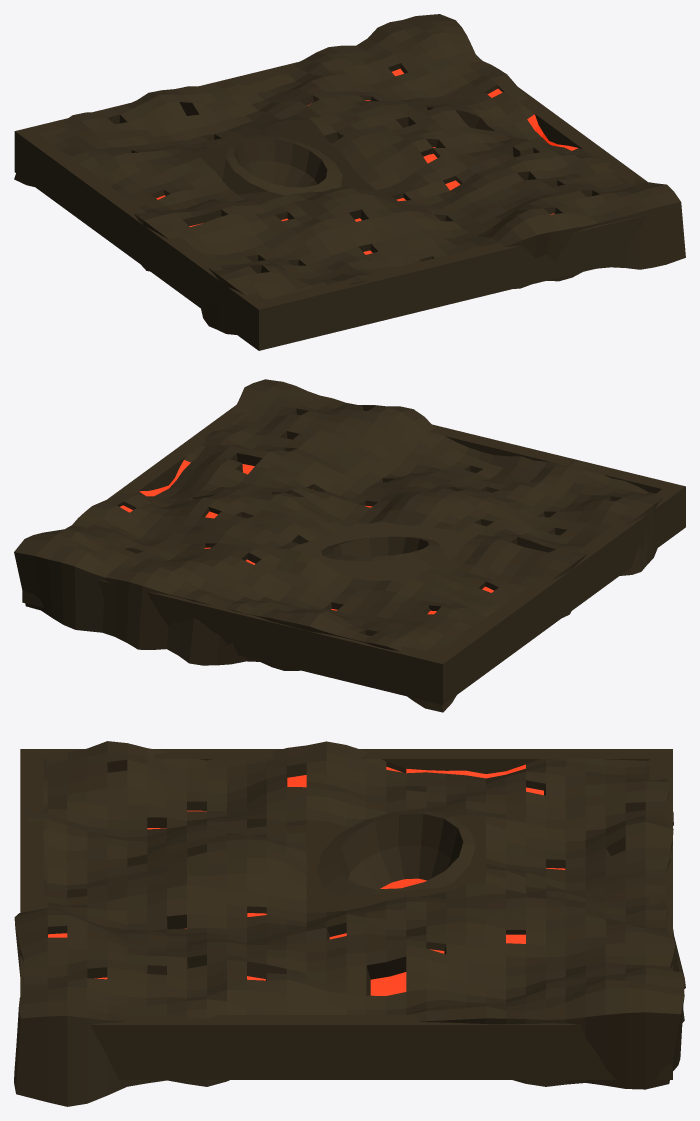
File: Normal Tile.fbx
The picture shows the model from 3 angles, top to bottom: view 1: azimuth 30°, elevation 25°; view 2: azimuth 150°, elevation 25°; view 3: azimuth 270°, elevation 25°; orthographic projection. The views are drawn at different scales.
Parts seen in each view (by area): view 1: Normal Tile; view 2: Normal Tile; view 3: Normal Tile.
Part boxes in pixels (<box>): Normal Tile: <box>14,14,685,350</box>; Normal Tile: <box>14,379,685,712</box>; Normal Tile: <box>14,741,685,1106</box>.
Bounding box in the file's own units: 210 × 39.16 × 211.
